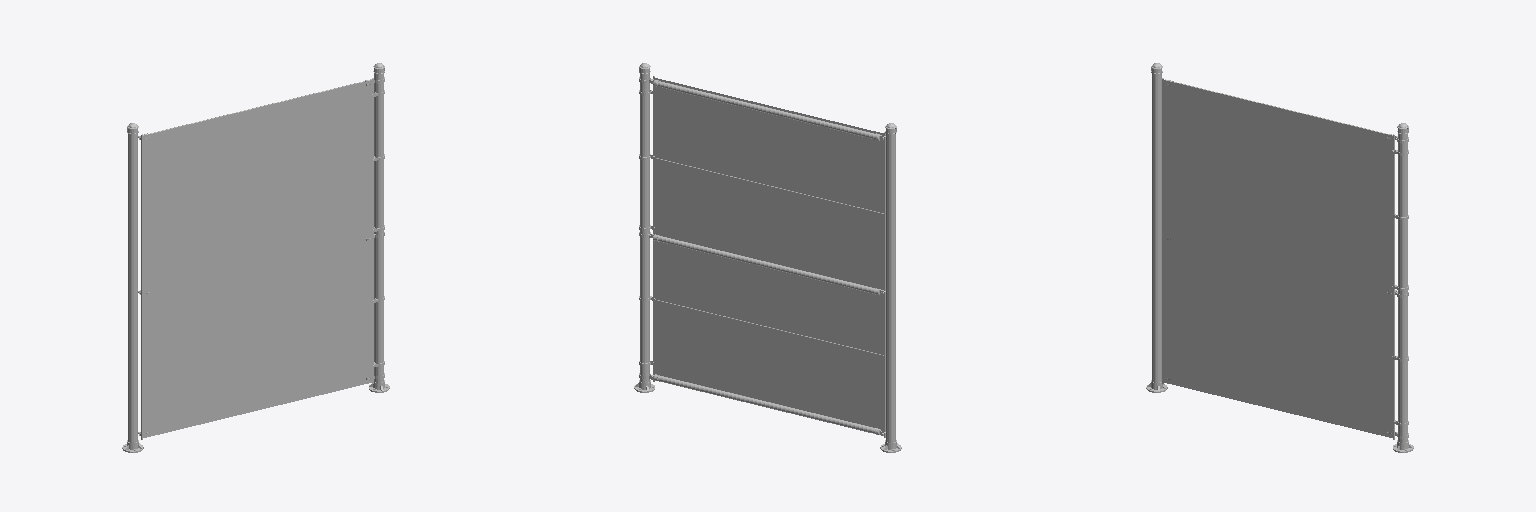
Rendered from fencelinda.obj.
3 views of the same model, side by side, from view 1: azimuth 30°, elevation 25°; view 2: azimuth 150°, elevation 25°; view 3: azimuth 330°, elevation 25° (orthographic).
Parts seen in each view (by area): view 1: modular_chainlink_fence_double, modular_chainlink_fence_end_01, modular_chainlink_fence_post; view 2: modular_chainlink_fence_double, modular_chainlink_fence_end_01, modular_chainlink_fence_post; view 3: modular_chainlink_fence_double, modular_chainlink_fence_end_01, modular_chainlink_fence_post.
Part boxes in pixels (x1,y1,x2,y2): modular_chainlink_fence_double: (138, 78, 374, 439); modular_chainlink_fence_end_01: (369, 63, 389, 392); modular_chainlink_fence_post: (122, 123, 143, 452); modular_chainlink_fence_double: (649, 76, 885, 437); modular_chainlink_fence_end_01: (634, 63, 654, 392); modular_chainlink_fence_post: (880, 123, 901, 452); modular_chainlink_fence_double: (1162, 78, 1397, 439); modular_chainlink_fence_end_01: (1392, 123, 1413, 452); modular_chainlink_fence_post: (1146, 63, 1167, 392).
Size of the model in its own units: 2.15 by 2.52 by 0.1494.